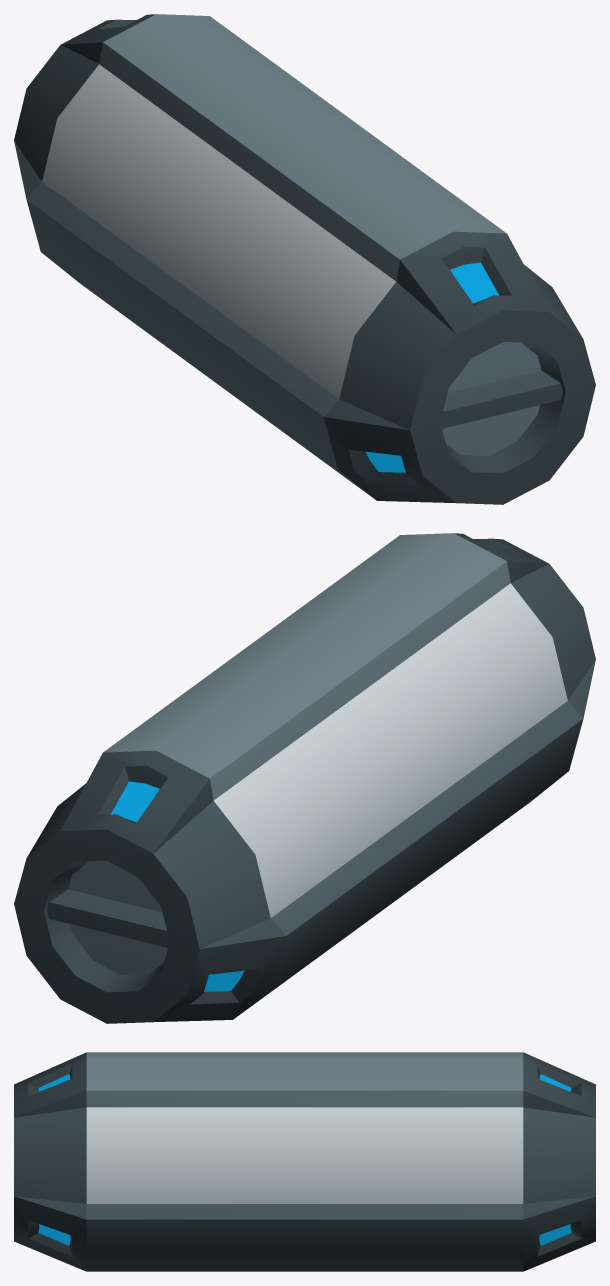
File: Baloon_005.glb
The picture shows the model from 3 angles, top to bottom: view 1: azimuth 30°, elevation 25°; view 2: azimuth 150°, elevation 25°; view 3: azimuth 270°, elevation 25°; orthographic projection. The views are drawn at different scales.
Visible parts, largest first — view 1: Baloon_005; view 2: Baloon_005; view 3: Baloon_005.
Boxes of the visible parts, bbox=[...] form: Baloon_005: bbox=[14, 14, 595, 504]; Baloon_005: bbox=[14, 533, 595, 1023]; Baloon_005: bbox=[14, 1052, 595, 1271].
Bounding box in the file's own units: 0.4546 × 0.4335 × 1.2.
2 materials, 2 textured.
